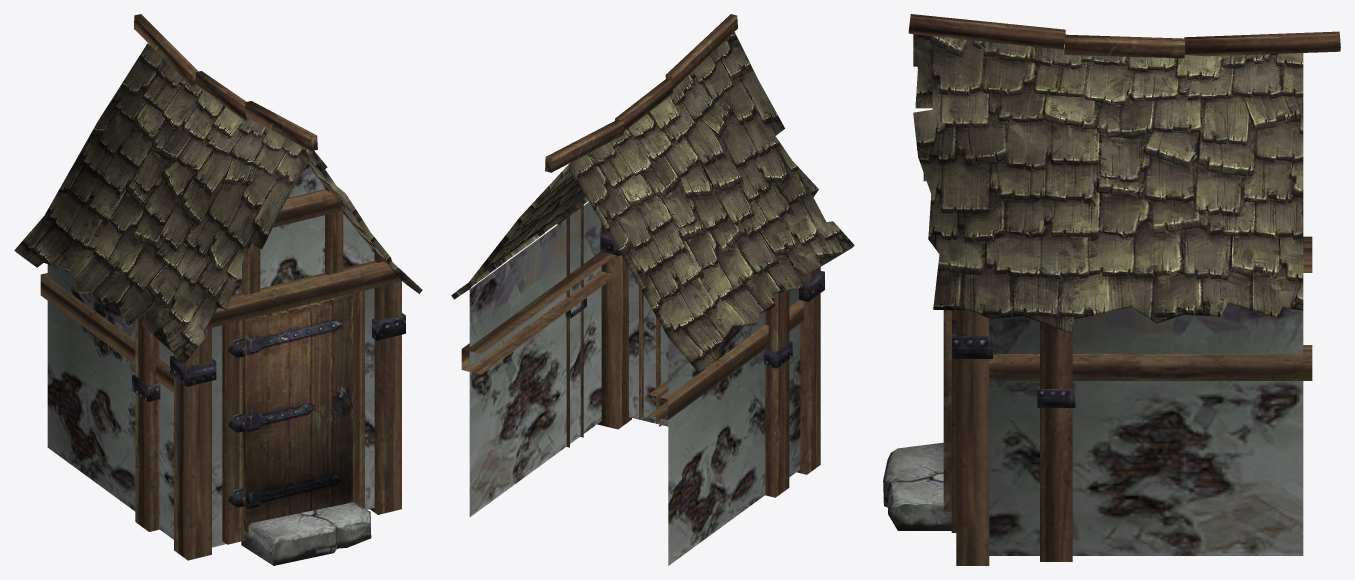
Rendered from Scene_Building_Elements_01.FBX.
The picture shows the model from 3 angles, left to right: view 1: azimuth 30°, elevation 25°; view 2: azimuth 150°, elevation 25°; view 3: azimuth 270°, elevation 25°; orthographic projection. The views are drawn at different scales.
Parts seen in each view (by area): view 1: Scene_Building_Elements_01; view 2: Scene_Building_Elements_01; view 3: Scene_Building_Elements_01.
Part boxes in pixels (x1=…): Scene_Building_Elements_01: x1=14, y1=14, x2=422, y2=565; Scene_Building_Elements_01: x1=451, y1=14, x2=854, y2=565; Scene_Building_Elements_01: x1=883, y1=14, x2=1340, y2=565.
Bounding box in the file's own units: 5.71 × 8.46 × 7.19.
